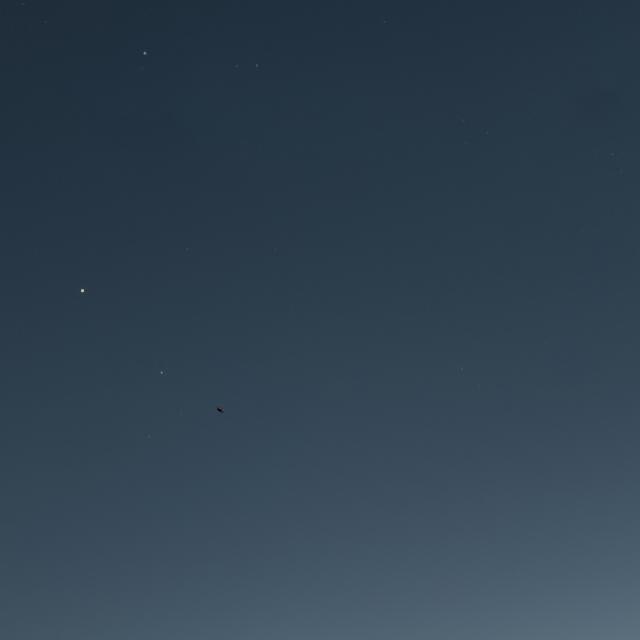Airaplan: (217, 407, 224, 412)
